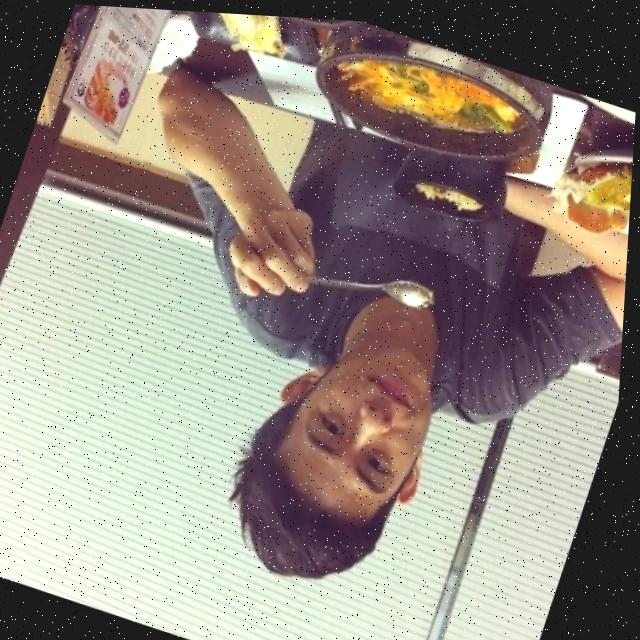eating-person: (14, 2, 640, 640)
